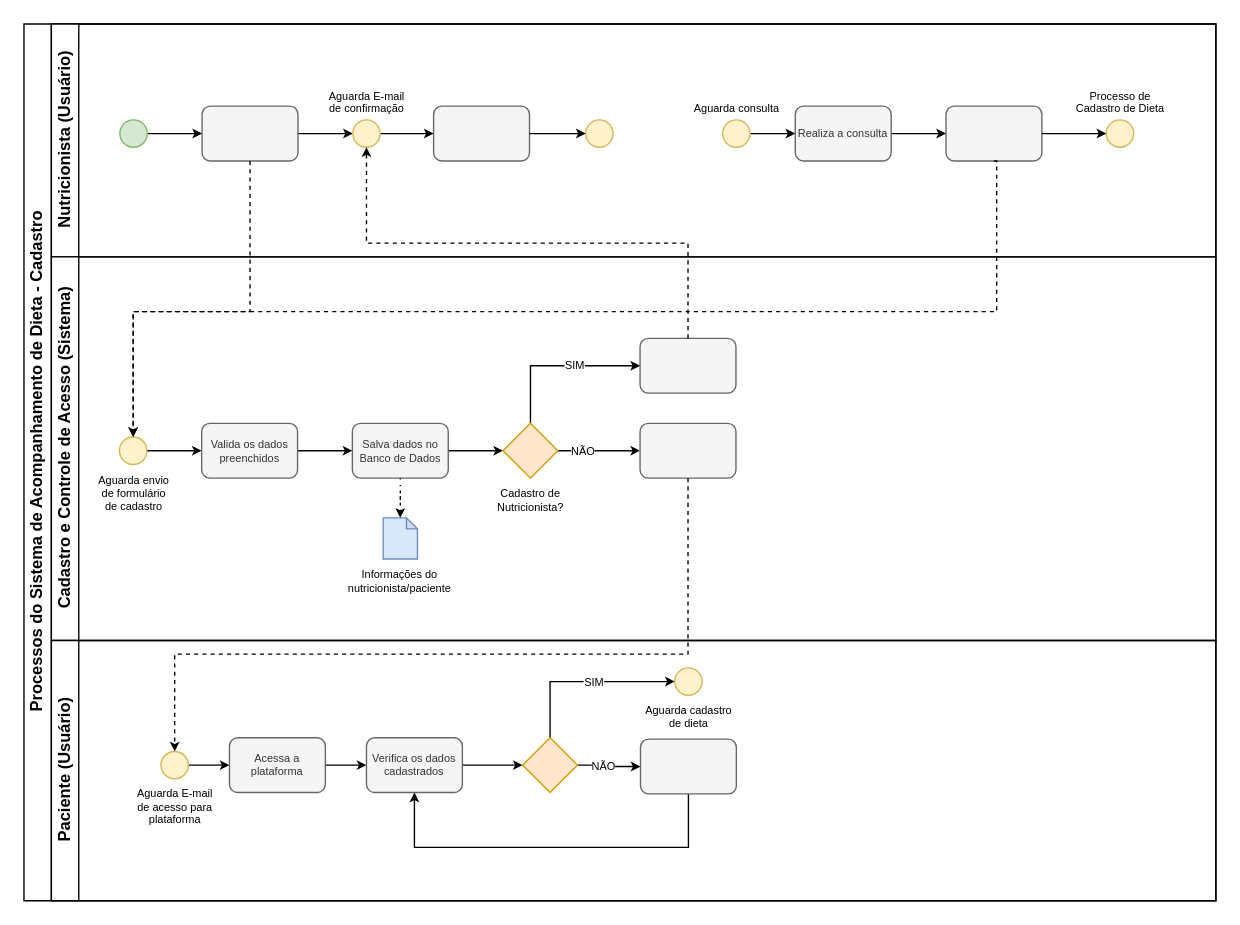
Some shapes in this 1240 by 925 pixel diagram are drawn without their labels. The shapes that lost their labels are listed below. From the top down, each one's centre as x and y in pixels, then its label:
At pixel 249 133: "Preenche formulário de cadastro".
At pixel 481 133: "Confirma dados cadastrados".
At pixel 598 133: "Processo de Seleção de Plano e Pagamento".
At pixel 993 133: "Cadastra paciente".
At pixel 687 365: "Envia e-mail de confirmação".
At pixel 687 450: "Envia e-mail de com dados de acesso".
At pixel 549 764: "Dados corretos?".
At pixel 687 766: "Edita dados".
